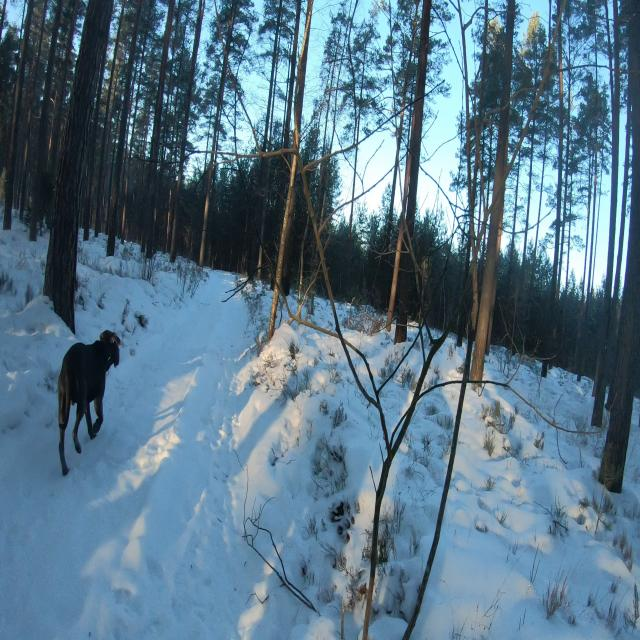trees: (43, 0, 112, 332), (599, 8, 639, 492), (471, 0, 515, 379), (268, 0, 313, 339), (592, 0, 620, 426), (199, 0, 239, 266), (107, 0, 144, 255), (170, 0, 204, 261), (541, 7, 564, 377), (143, 0, 175, 257), (30, 0, 63, 241), (399, 0, 431, 244), (400, 0, 431, 247), (3, 0, 35, 229), (95, 0, 124, 237), (386, 115, 414, 331), (48, 0, 80, 175), (83, 49, 106, 240), (384, 81, 408, 252), (264, 0, 283, 151), (283, 0, 301, 148), (394, 249, 414, 343), (468, 168, 479, 328), (258, 159, 268, 279), (473, 70, 484, 175), (467, 136, 471, 162), (387, 311, 392, 330)
